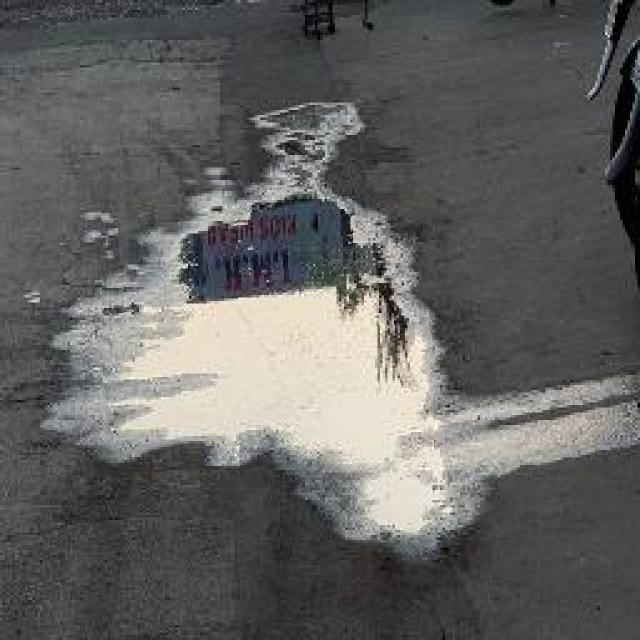puddle: (103, 185, 434, 470)
